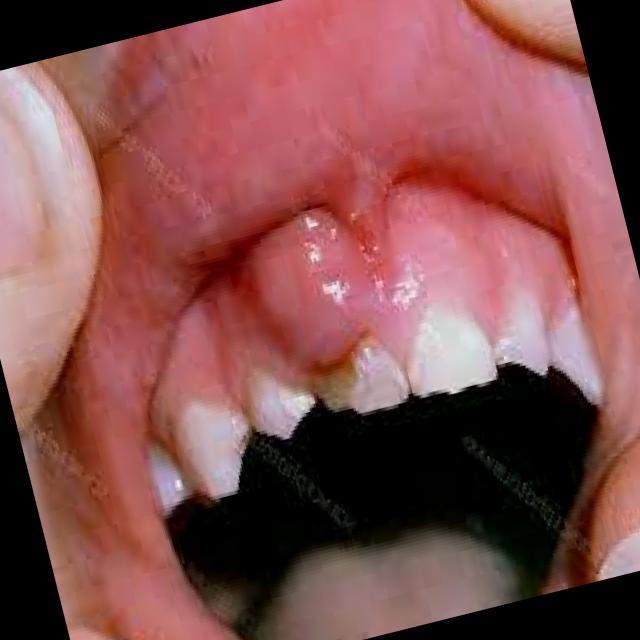abscess: (198, 188, 414, 424)
